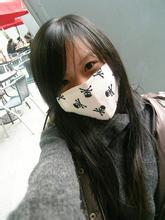OK: (48, 49, 120, 121)
